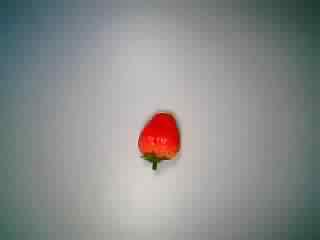strawberry: (125, 109, 193, 173)
